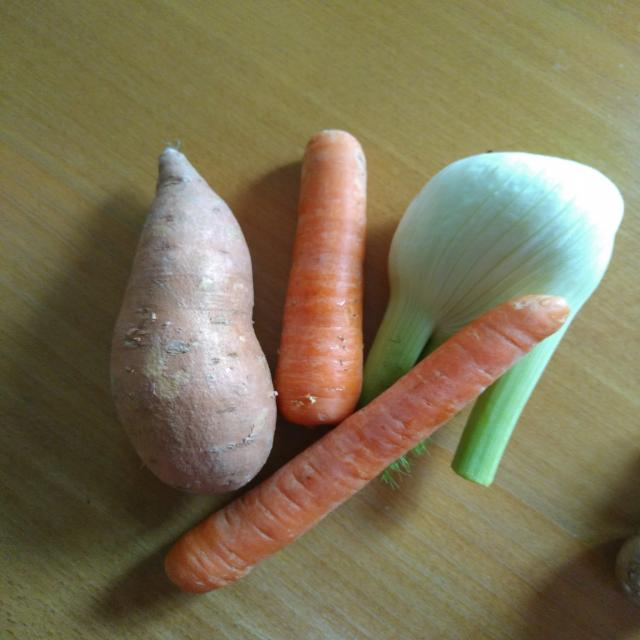Carrot: (163, 292, 568, 598), (277, 131, 365, 431)
Sweet Potato: (109, 144, 277, 498)
